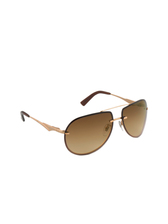glasses: (15, 86, 150, 157)
